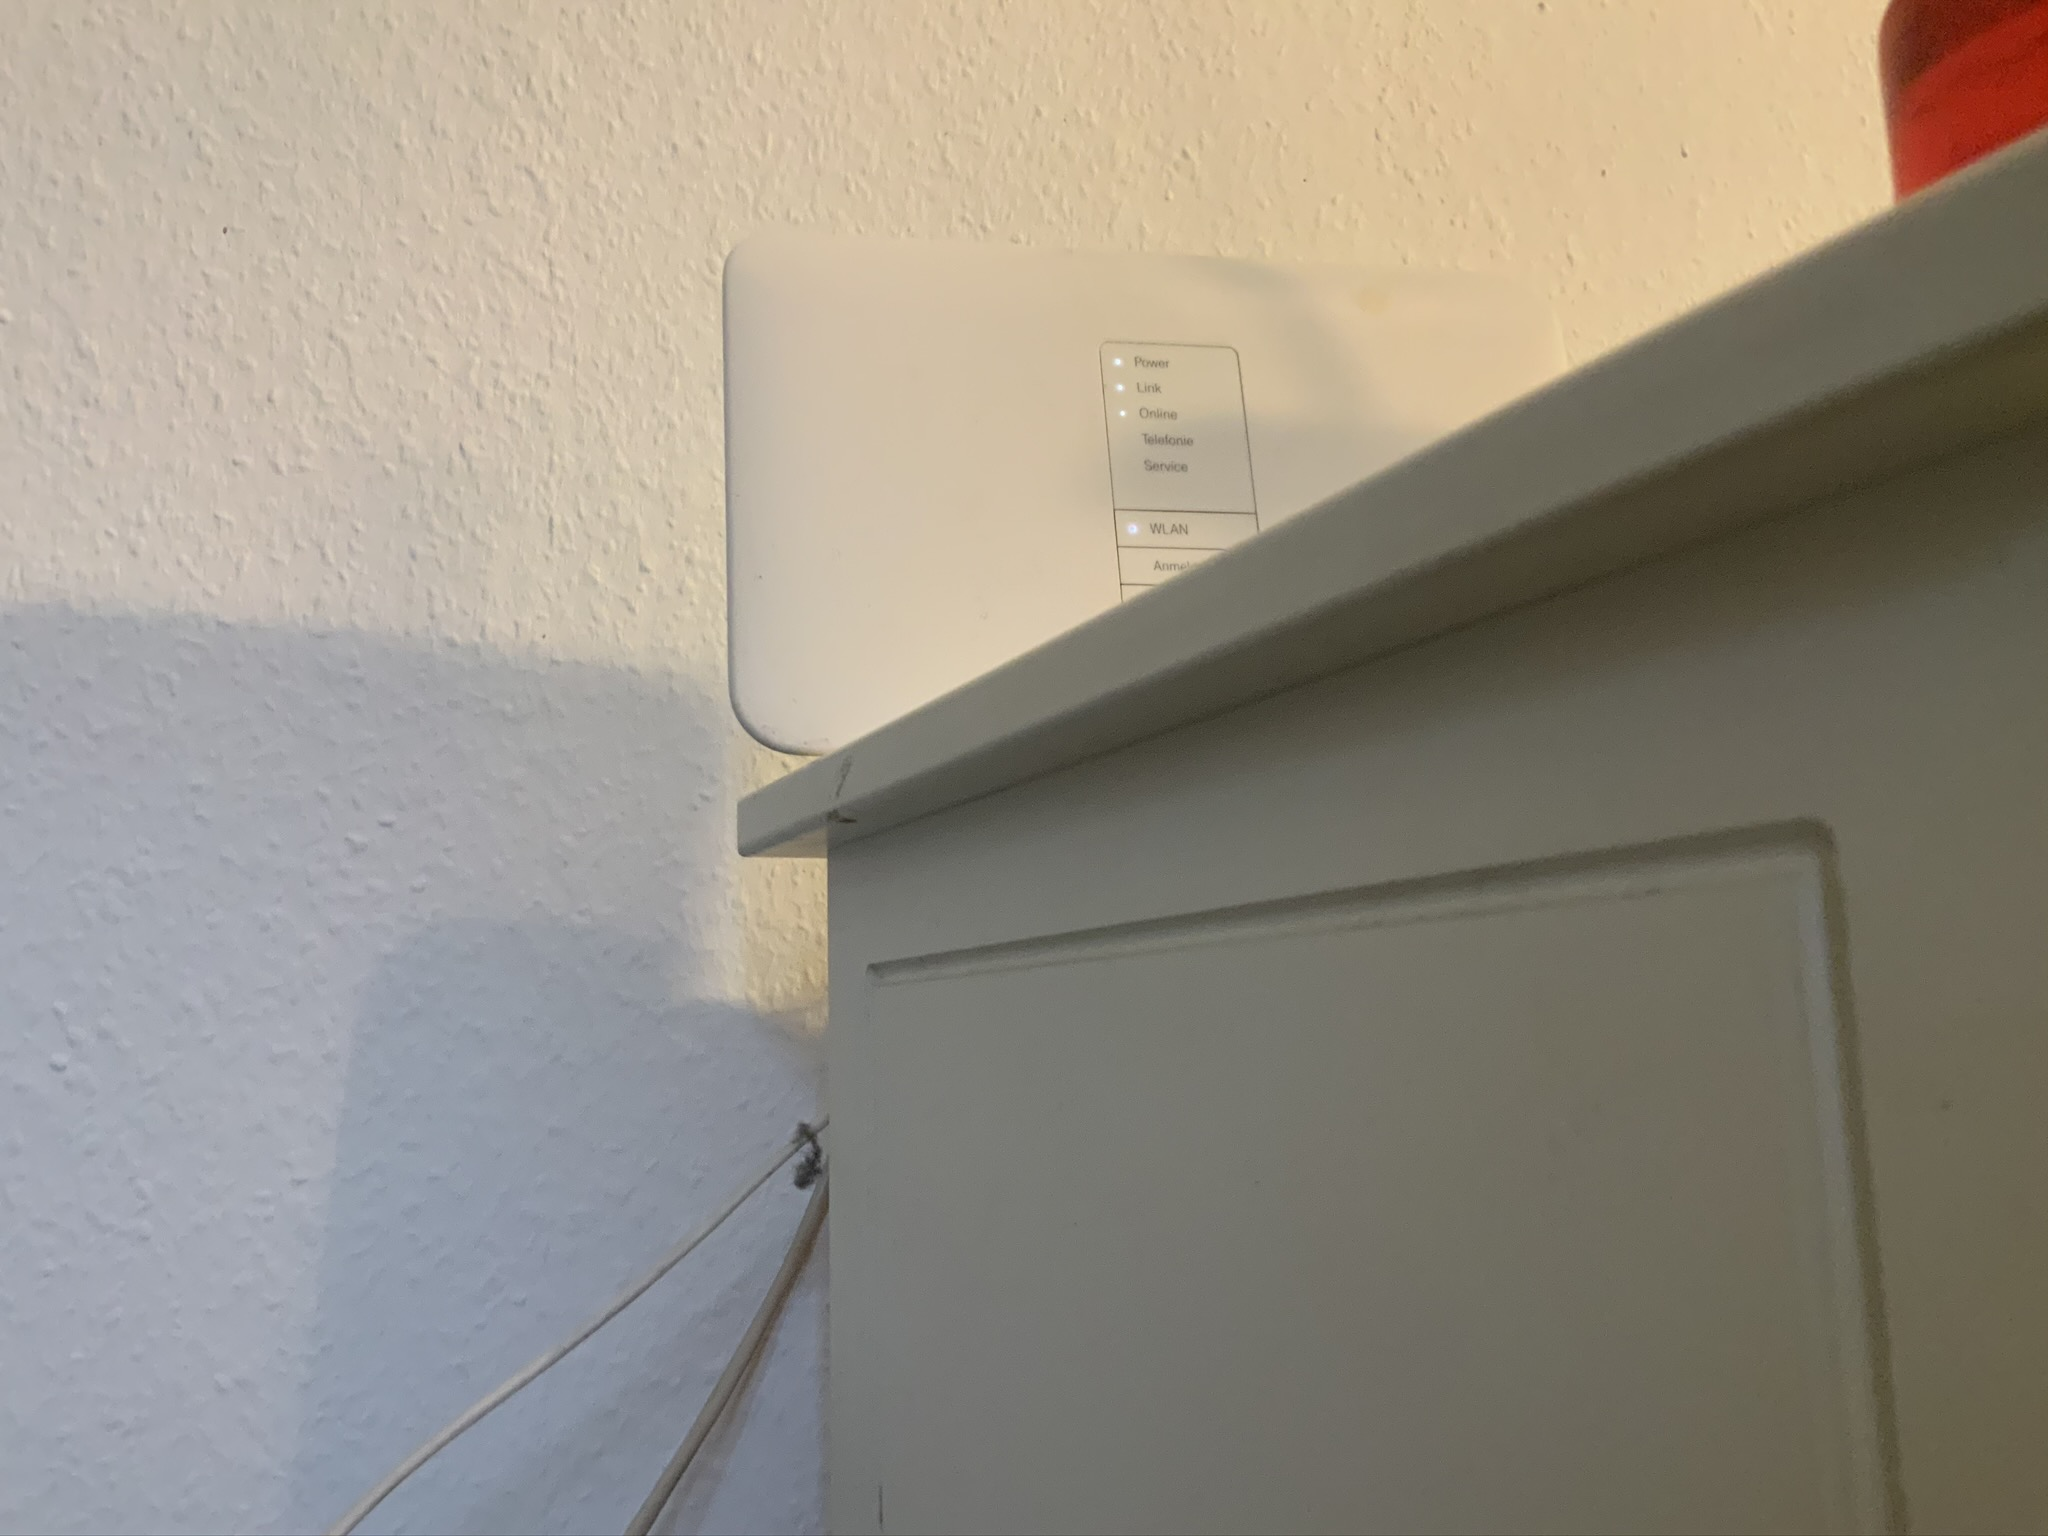router: (718, 224, 1584, 768)
